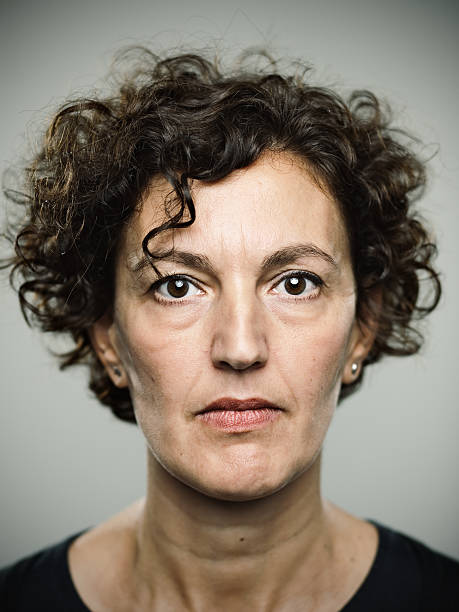face: (123, 191, 361, 505)
